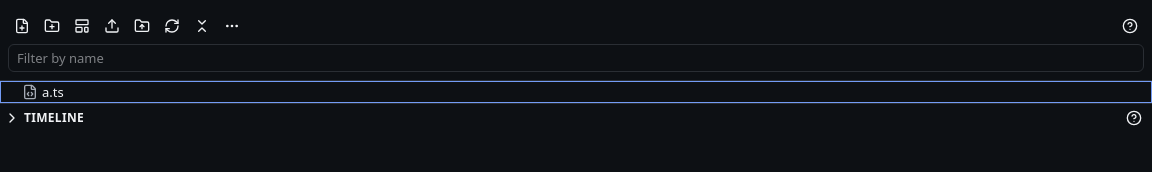
Scenario: a new file and a new folder, named in place — S-168 › creates a folder, which does not open in the editor
This screenshot has width=1152, height=172.
Type keys "{Shift>}{Alt>}n{/Alt}{/Shift}"
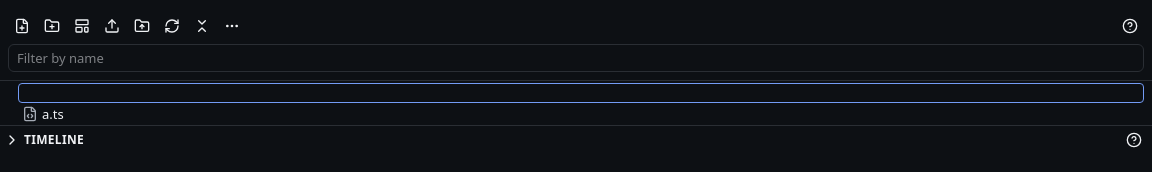
Type "lib" into the field named "Name of the new folder". click: (581, 93)
box: x1=18 y1=83 x2=1144 y2=103
Then press Enter
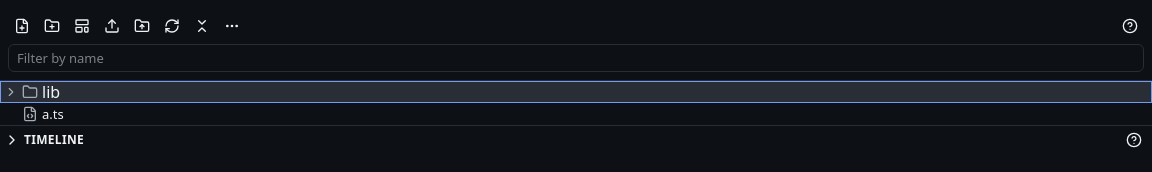
Check: the list item "lib" is shown, box x1=0 y1=81 x2=1151 y2=103
